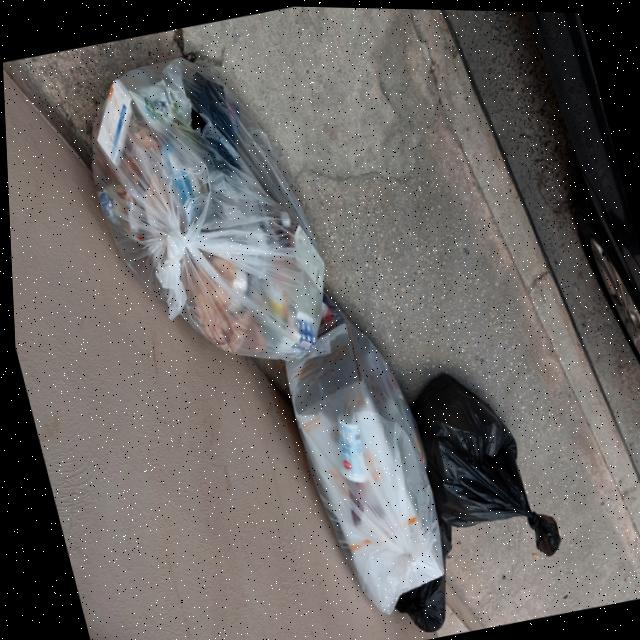Mixed Waste -Black Bag-: (398, 353, 561, 576), (369, 509, 471, 639)
Recycled Waste -Grey or Green Bag-: (63, 33, 345, 393), (262, 272, 456, 622)
